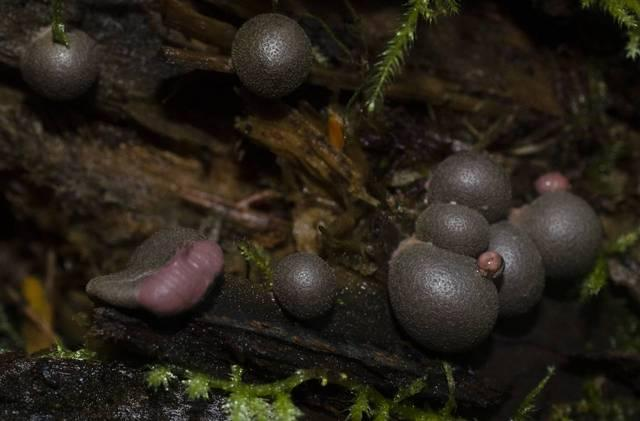Non-edible Mushroom: (385, 148, 603, 352), (84, 223, 225, 317), (386, 236, 500, 352), (509, 188, 603, 280), (229, 11, 314, 98), (18, 21, 102, 100), (425, 149, 512, 221), (480, 219, 545, 315), (270, 250, 338, 320), (413, 201, 490, 256)
